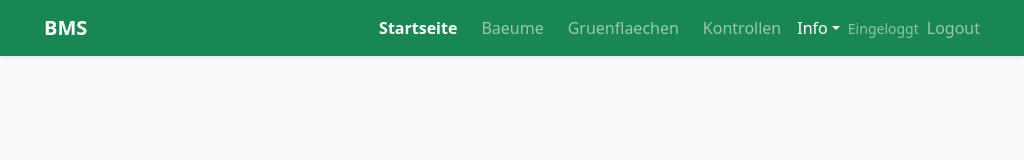
Test: AppHeader › shows logout when token exists and clears it on click
The width and height of the screenshot is (1024, 160).
Expected: the text "Eingeloggt" is shown, [848,19,919,38]
What coordinates should you click on to do the following:
click the button "Logout"
I would click on:
 (953, 28)
Its box is [927,8,980,48].
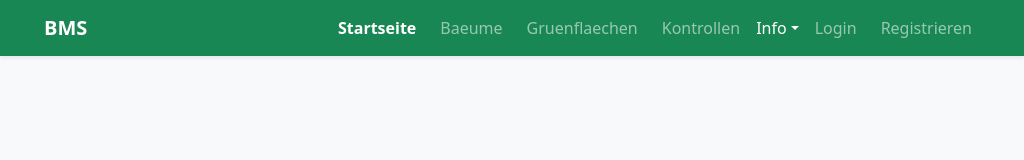
Expected: the link "Login" is shown, [815,17,857,39]
Expected: the text "Eingeloggt" is gone
